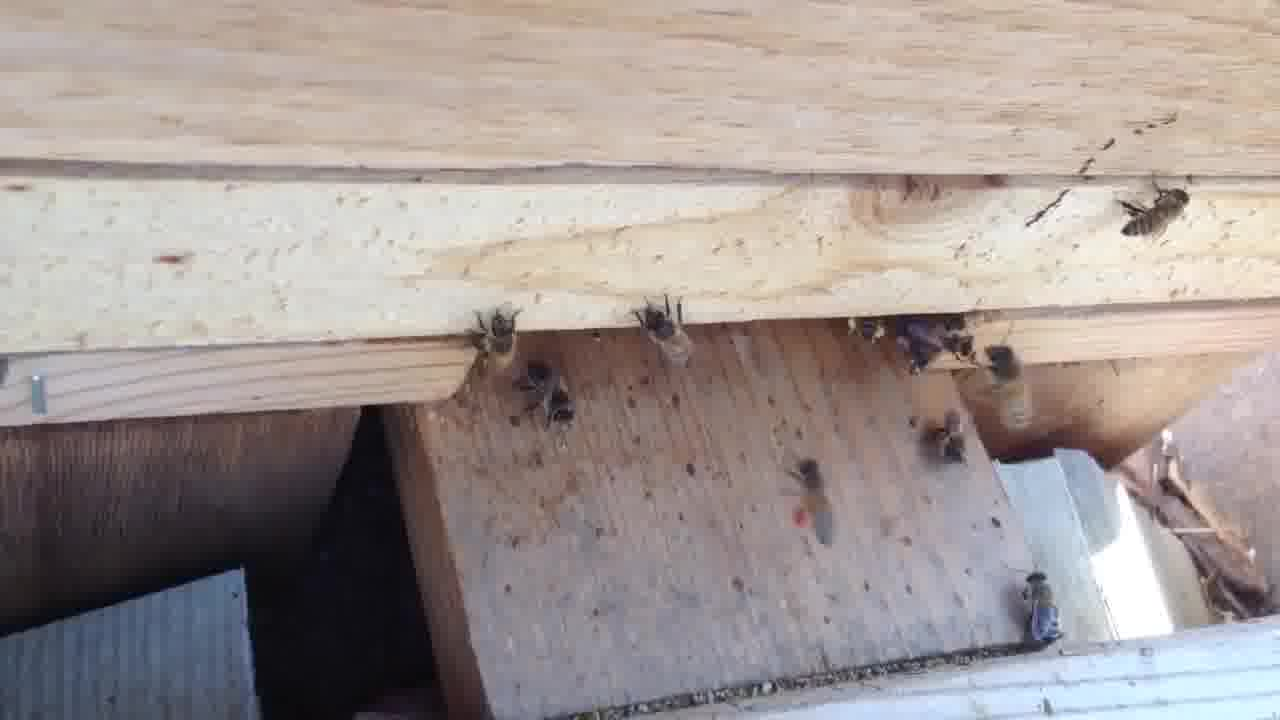pollen: (784, 457, 842, 550)
